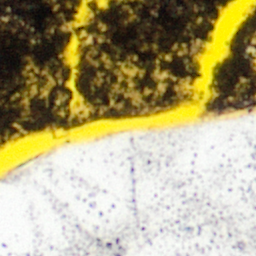cement_matrix: (76, 0, 229, 116), (0, 0, 79, 142), (209, 9, 255, 110), (122, 66, 135, 78), (157, 71, 165, 83), (131, 93, 140, 101)
cracks: (0, 0, 255, 177), (123, 67, 134, 77), (251, 42, 255, 66), (158, 72, 164, 82), (132, 94, 139, 100)
gravel_crushed_stones: (0, 112, 255, 255)
